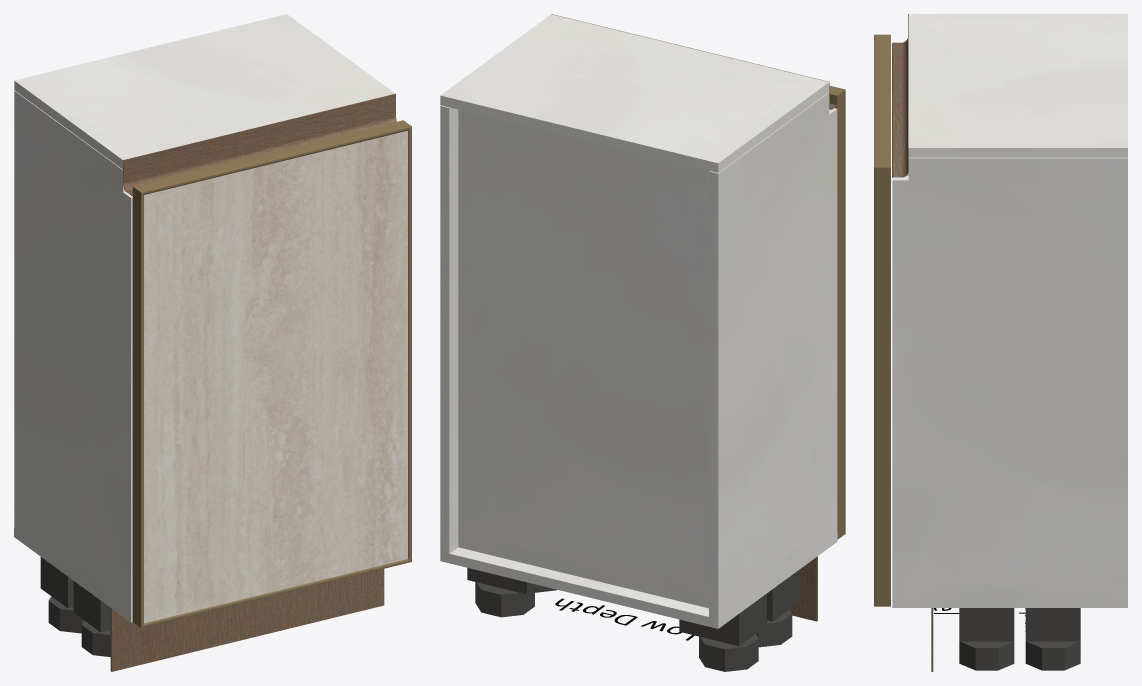
File: BCL-SH-CJ-ST-1SX-LHS-XXX-450-720-336-15.glb
3 renders of one model, left to right at view 1: azimuth 30°, elevation 25°; view 2: azimuth 150°, elevation 25°; view 3: azimuth 270°, elevation 25°, orthographic.
Visible parts, largest first — view 1: Object_node_11, TP_node, TP_node_1, Object_node_13, ExtrSplGeo, Extrusion_node_1, Extrusion, Extrusion_node, Extrusion_node_0, TP, Plate_node_0, Plate (+2 smaller); view 2: TP_node_3, TP_node, TP_node_1, TP_node_0, TP, Extrusion_node_1, Plate, Foot, Foot_node, Object_node_13, Plate_node_0, Foot_node_0 (+2 smaller); view 3: TP_node_0, TP_node_1, Extrusion_node, TP, ExtrSplGeo, Extrusion, Plate_node_1, Plate_node, Foot_node, Foot_node_1.
Boxes of the visible parts, x1=… form: Object_node_11: x1=144, y1=130, x2=407, y2=623; TP_node: x1=14, y1=90, x2=132, y2=612; TP_node_1: x1=14, y1=14, x2=394, y2=169; Object_node_13: x1=110, y1=569, x2=384, y2=671; ExtrSplGeo: x1=123, y1=93, x2=396, y2=195; Extrusion_node_1: x1=132, y1=186, x2=143, y2=627; Extrusion: x1=133, y1=120, x2=411, y2=194; Extrusion_node: x1=408, y1=126, x2=411, y2=561; Extrusion_node_0: x1=141, y1=559, x2=411, y2=627; TP: x1=14, y1=528, x2=132, y2=622; Plate_node_0: x1=73, y1=581, x2=110, y2=632; Plate: x1=40, y1=557, x2=73, y2=608; TP_node_3: x1=458, y1=109, x2=708, y2=608; TP_node: x1=709, y1=92, x2=837, y2=619; TP_node_1: x1=440, y1=14, x2=829, y2=172; TP_node_0: x1=440, y1=105, x2=458, y2=553; TP: x1=440, y1=532, x2=837, y2=628; Extrusion_node_1: x1=829, y1=90, x2=845, y2=539; Plate: x1=679, y1=593, x2=766, y2=646; Foot: x1=699, y1=634, x2=758, y2=671; Foot_node: x1=475, y1=582, x2=534, y2=617; Object_node_13: x1=789, y1=556, x2=817, y2=621; Plate_node_0: x1=767, y1=569, x2=800, y2=621; Foot_node_0: x1=756, y1=609, x2=792, y2=647; TP_node_0: x1=892, y1=157, x2=1127, y2=598; TP_node_1: x1=908, y1=14, x2=1127, y2=157; Extrusion_node: x1=874, y1=167, x2=890, y2=606; TP: x1=892, y1=598, x2=1127, y2=607; ExtrSplGeo: x1=892, y1=14, x2=908, y2=177; Extrusion: x1=874, y1=34, x2=890, y2=167; Plate_node_1: x1=959, y1=608, x2=1014, y2=641; Plate_node: x1=1025, y1=608, x2=1080, y2=641; Foot_node: x1=1025, y1=641, x2=1080, y2=670; Foot_node_1: x1=959, y1=641, x2=1014, y2=670.
Size of what is drawn, in the model's own units: 0.45 by 0.82 by 0.3602.
6 materials, 3 textured.
